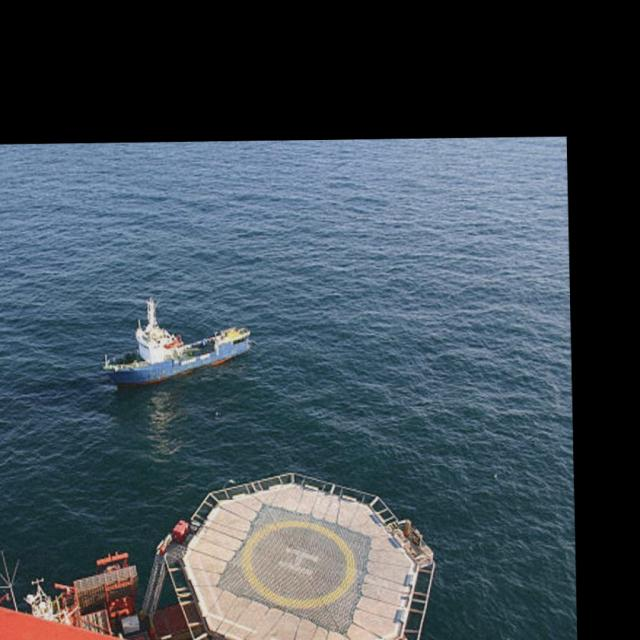helipad: (240, 518, 360, 612)
